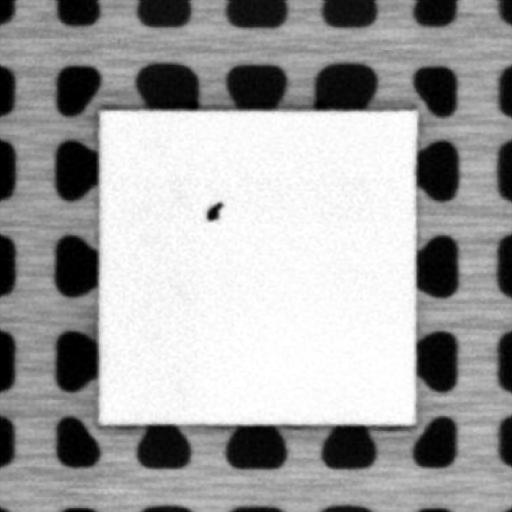DIE_INK: (204, 197, 224, 220)
